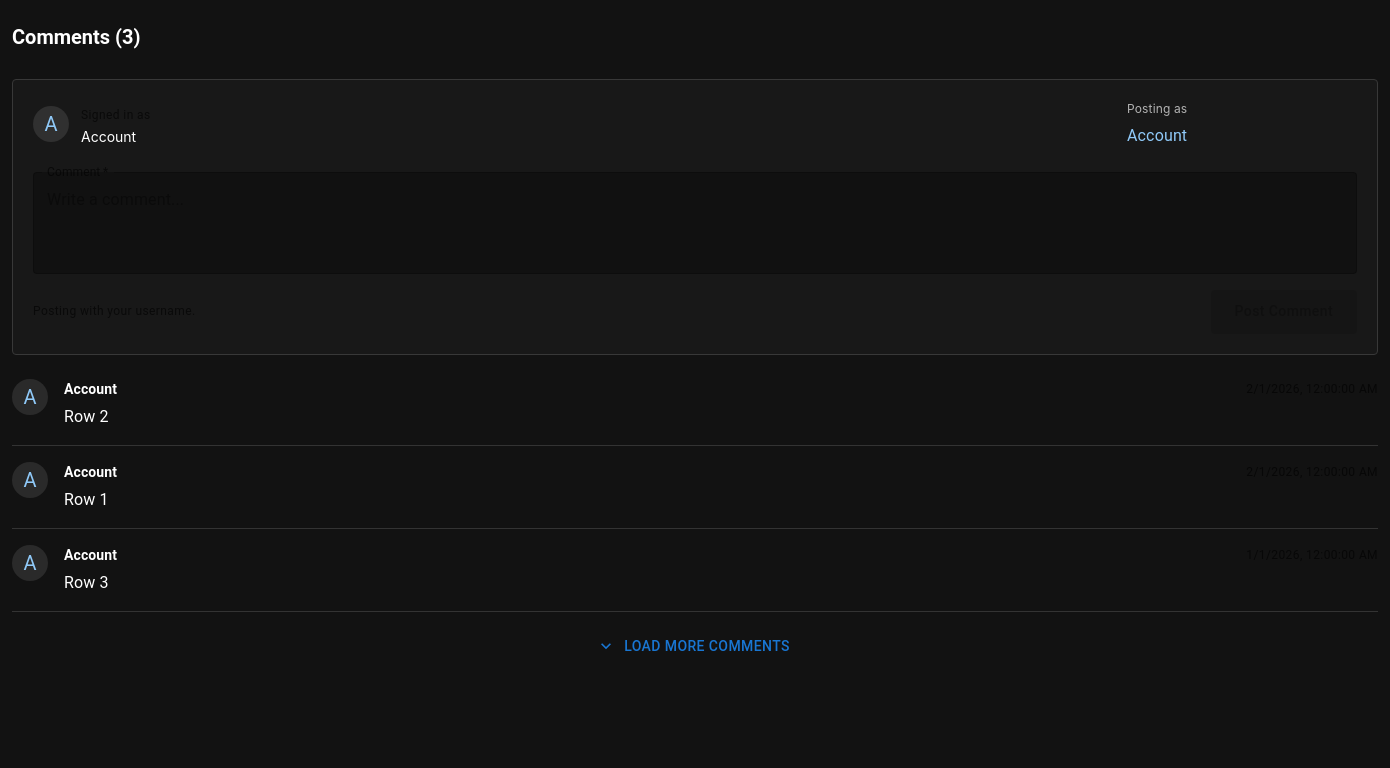
Test: composer precedes chronological thread; older pages preserve newest posts and ties
The image size is (1390, 768).
Check: the text "Row 1" is shown, box [64,490,109,509]
Step 1. Click the button "Load more comments" → coordinates (695, 646), box [12,628,1378,664]
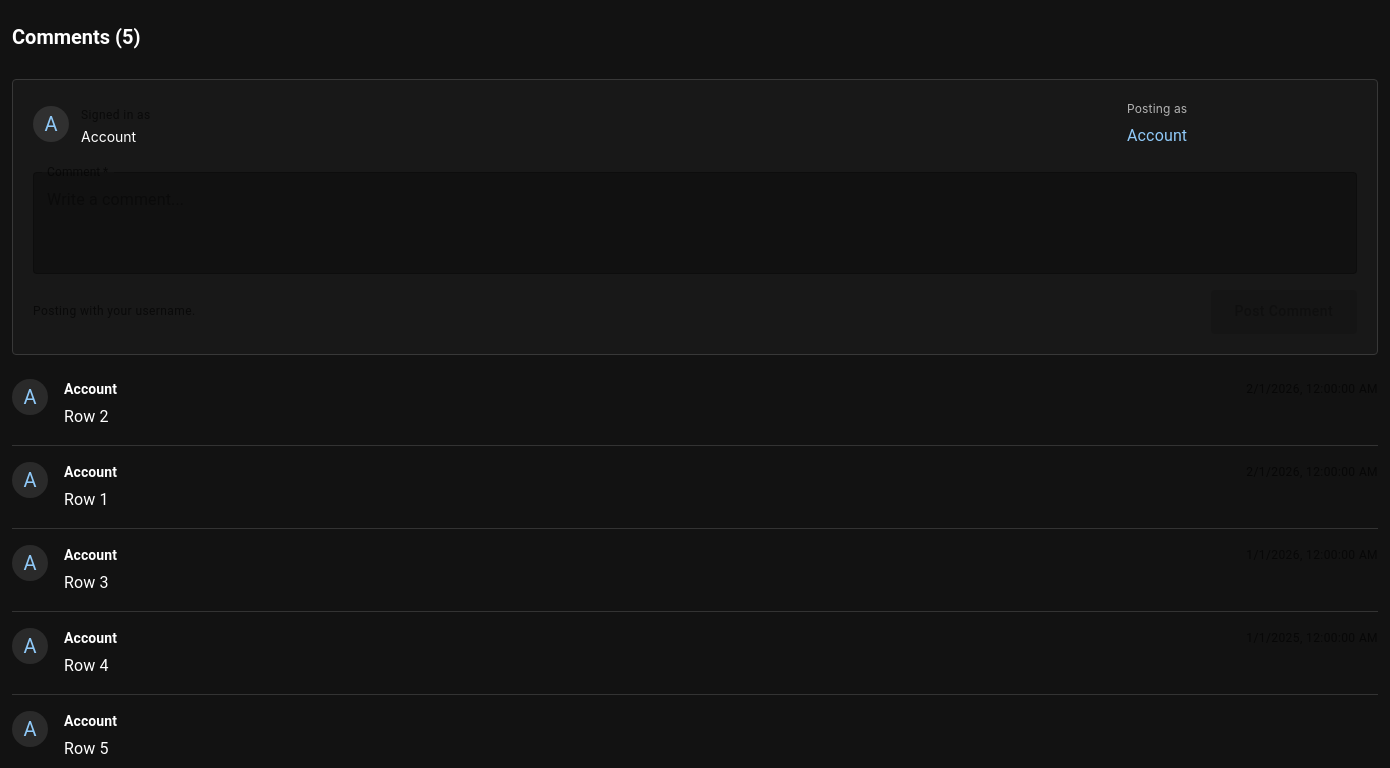
Check: the text "Row 4" is shown, box [64,656,109,674]
